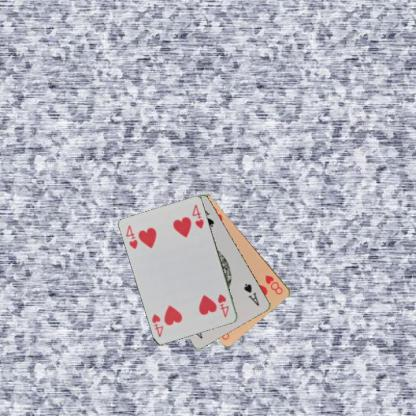4h: (124, 222, 139, 251), (215, 291, 230, 318)
8h: (263, 272, 284, 296)
As: (242, 281, 260, 307)
